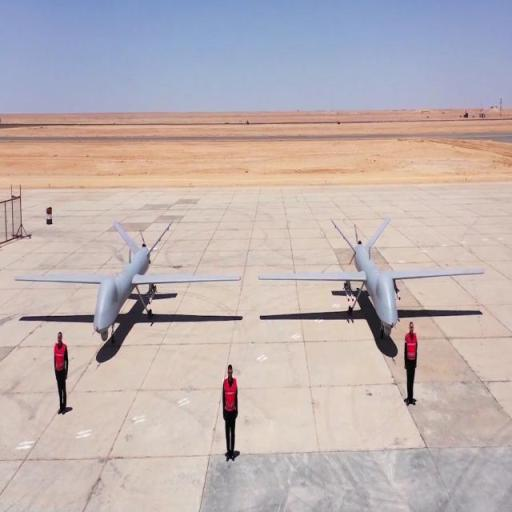uav: (12, 230, 246, 360)
